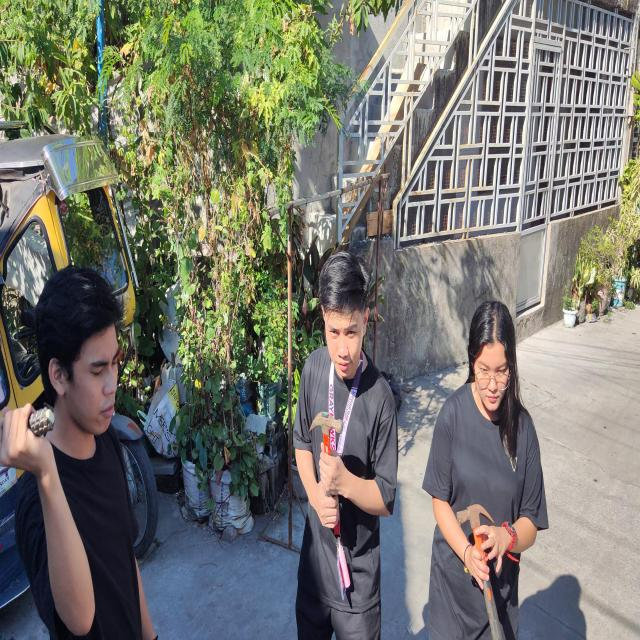hammer: (456, 504, 502, 640), (310, 411, 344, 498)
